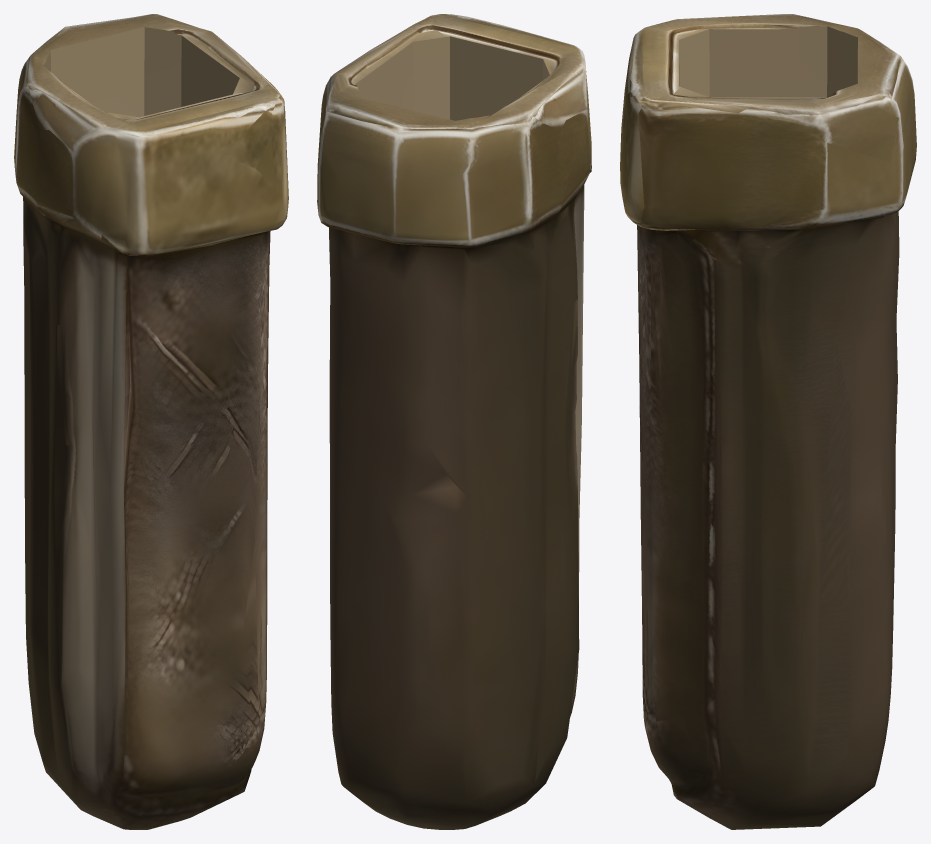
File: TallSleeve.fbx
3 renders of one model, left to right at view 1: azimuth 30°, elevation 25°; view 2: azimuth 150°, elevation 25°; view 3: azimuth 270°, elevation 25°, orthographic.
Visible parts, largest first — view 1: TallSleeve_LOD0; view 2: TallSleeve_LOD0; view 3: TallSleeve_LOD0.
Part boxes in pixels (bbox=[...]): TallSleeve_LOD0: bbox=[14, 14, 288, 829]; TallSleeve_LOD0: bbox=[317, 14, 591, 829]; TallSleeve_LOD0: bbox=[620, 14, 916, 829].
Size of what is drawn, in the model's own units: 0.028 by 0.092 by 0.033.
1 material, 1 textured.
